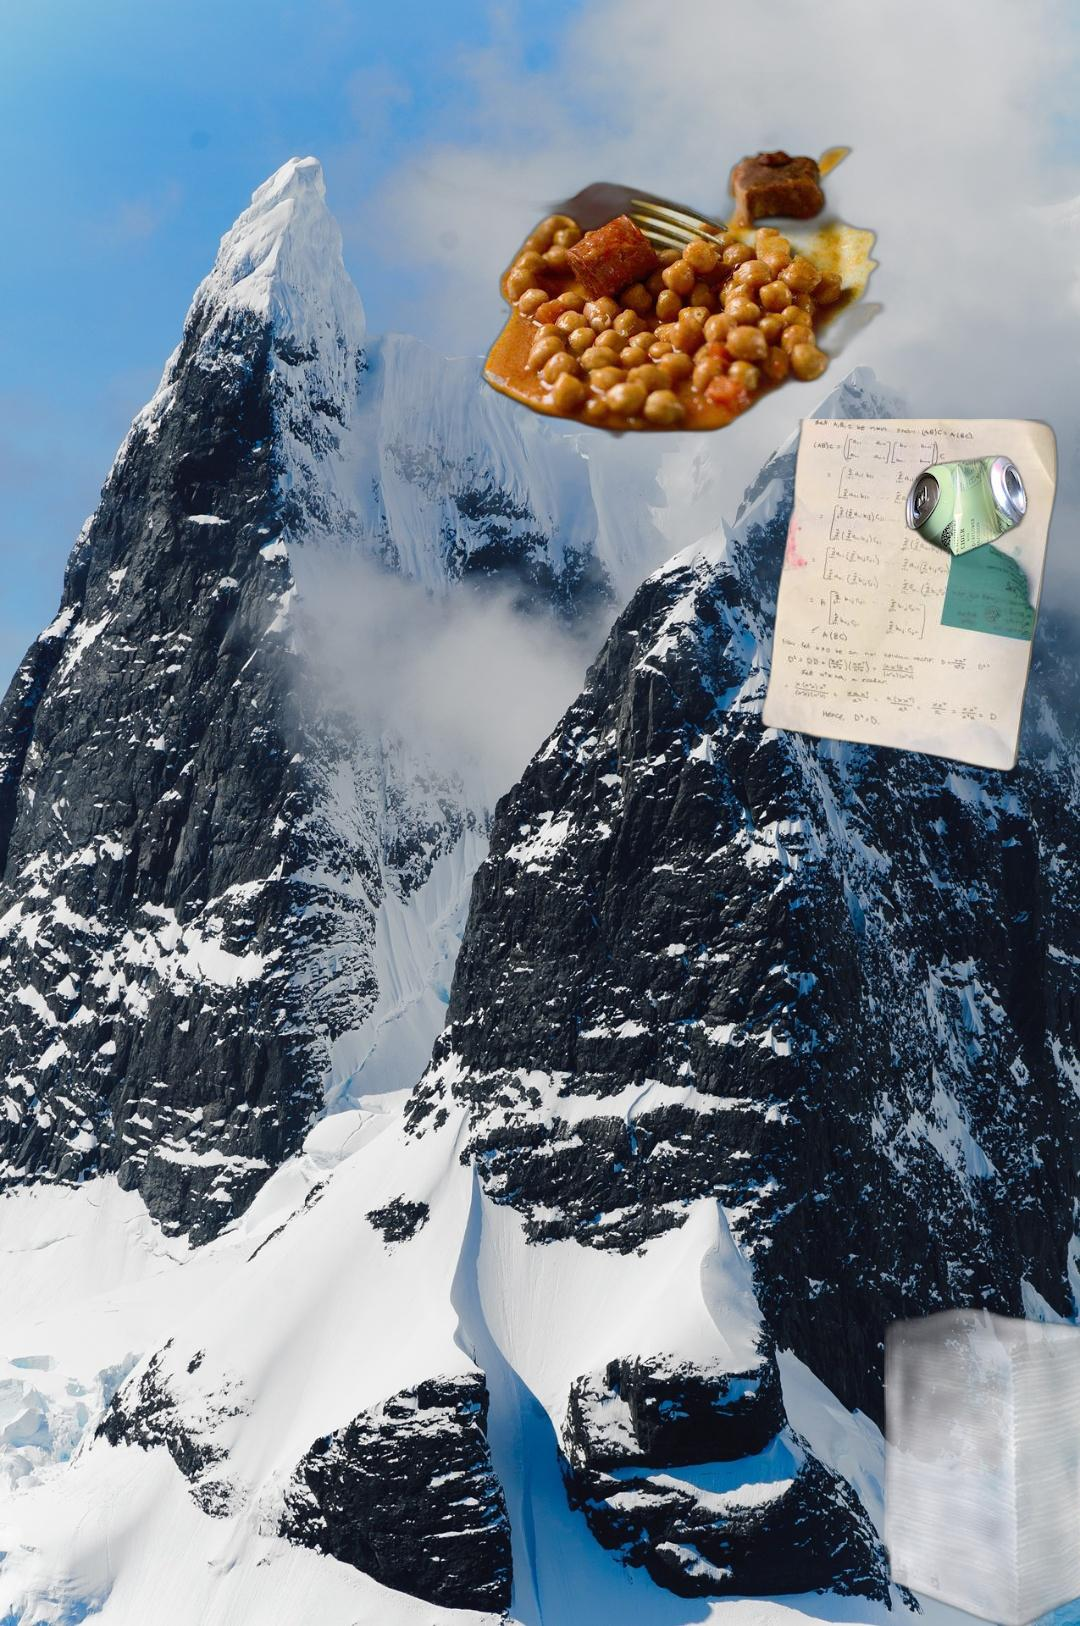biological: (409, 72, 904, 442)
metal-cans: (887, 450, 1079, 862)
paper: (757, 419, 1062, 774), (874, 1521, 1080, 1626)
trashbox-cardboard: (884, 1246, 1080, 1626)
